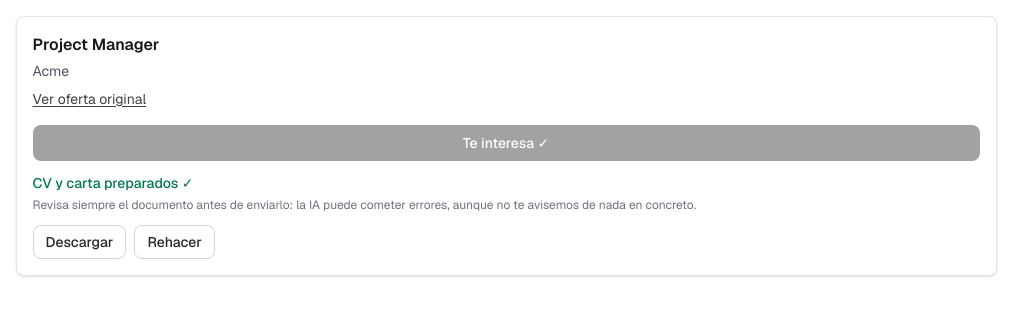
Test: TarjetaOferta — descarga del PDF con reintento › un 404 (documento aún no listo) no se reintenta y lo dice con su mensaje
Click the link "Descargar".
click(79, 242)  # box x1=32 y1=224 x2=126 y2=258
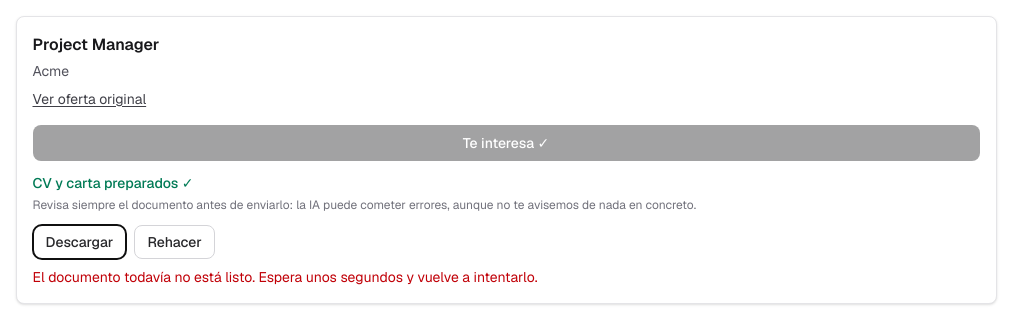
Check: the message shows "todavía no está listo", box x1=32 y1=268 x2=538 y2=286
